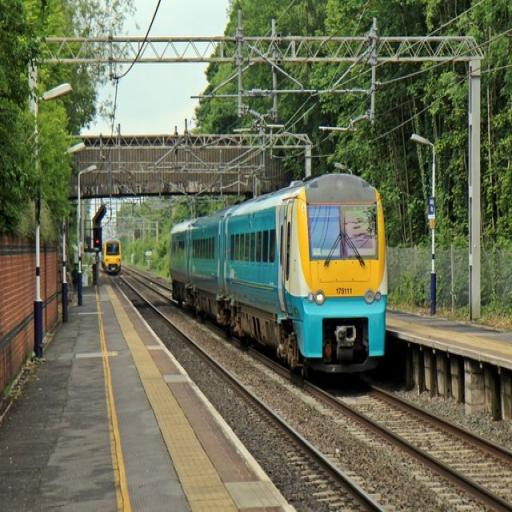platform_edge: (91, 294, 299, 512)
